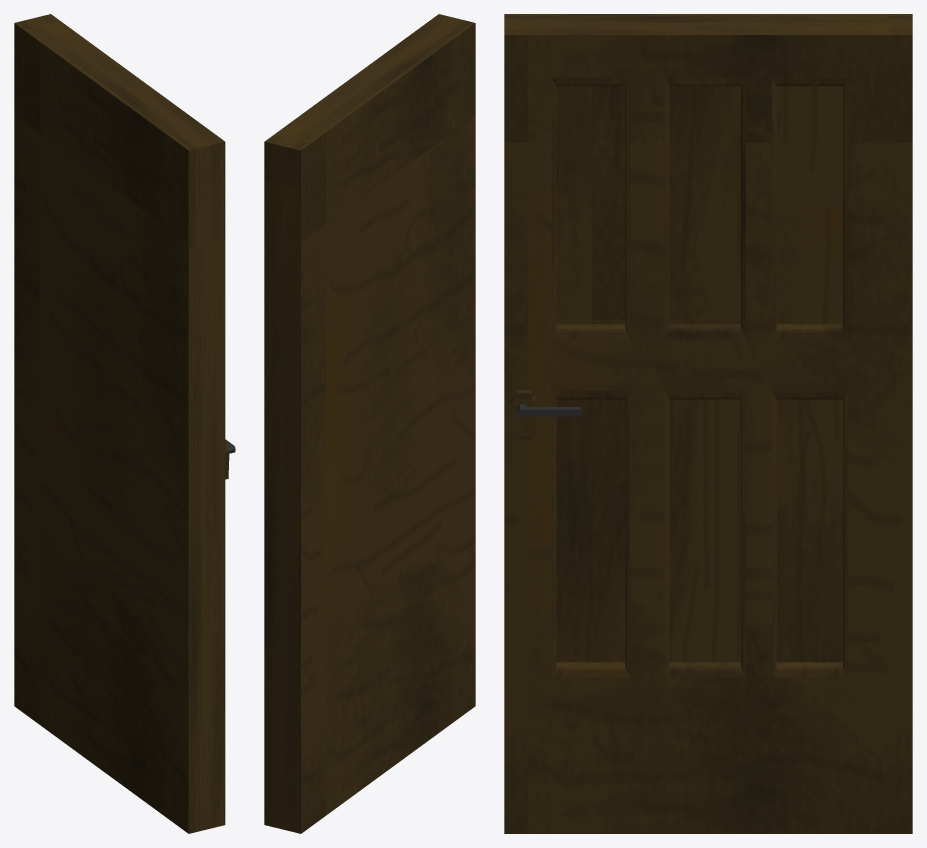
File: Dver.fbx
3 views of the same model, side by side, from view 1: azimuth 30°, elevation 25°; view 2: azimuth 150°, elevation 25°; view 3: azimuth 270°, elevation 25° (orthographic). The views are drawn at different scales.
Visible parts, largest first — view 1: Cube; view 2: Cube; view 3: Cube.
Boxes of the visible parts, left/top/right/bottom form: Cube: left=14, top=14, right=235, bottom=833; Cube: left=264, top=14, right=475, bottom=833; Cube: left=504, top=14, right=912, bottom=833.
Size of the model in its own units: 54.31 by 677 by 313.
